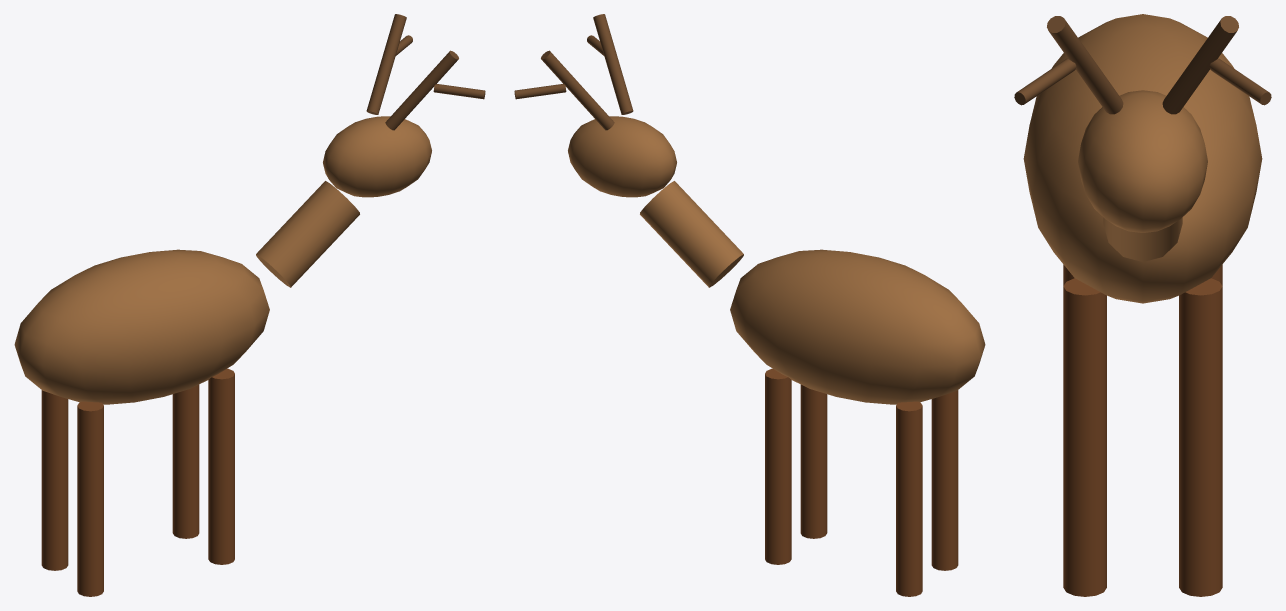
3 renders of one model, left to right at view 1: azimuth 30°, elevation 25°; view 2: azimuth 150°, elevation 25°; view 3: azimuth 270°, elevation 25°, orthographic. The views are drawn at different scales.
Visible parts, largest first — view 1: deer-garden; view 2: deer-garden; view 3: deer-garden.
Boxes of the visible parts, x1,y1,x2,y2 form: deer-garden: [14, 14, 485, 596]; deer-garden: [514, 14, 985, 596]; deer-garden: [1014, 14, 1271, 596].
Bounding box in the file's own units: 1.12 × 1.14 × 0.3555.
